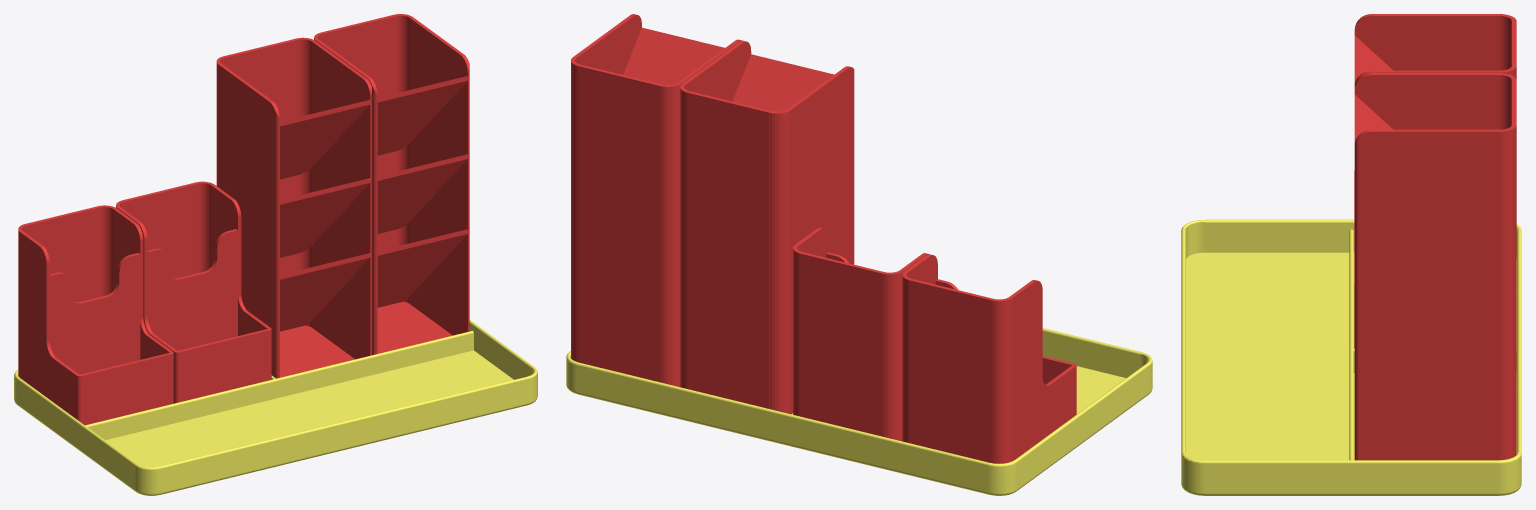
Rendered from DeskOrgan.glb.
3 renders of one model, left to right at view 1: azimuth 30°, elevation 25°; view 2: azimuth 150°, elevation 25°; view 3: azimuth 270°, elevation 25°, orthographic. The views are drawn at different scales.
Visible parts, largest first — view 1: Desk Organiser Small.001, Desk Organiser Plate; view 2: Desk Organiser Small.001, Desk Organiser Plate; view 3: Desk Organiser Small.001, Desk Organiser Plate.
Boxes of the visible parts, left/top/right/bottom form: Desk Organiser Small.001: left=18, top=14, right=469, bottom=425; Desk Organiser Plate: left=14, top=320, right=537, bottom=495; Desk Organiser Small.001: left=571, top=14, right=1076, bottom=463; Desk Organiser Plate: left=566, top=328, right=1152, bottom=495; Desk Organiser Small.001: left=1354, top=14, right=1516, bottom=460; Desk Organiser Plate: left=1181, top=219, right=1521, bottom=495.
Size of the model in its own units: 2.21 by 1.55 by 1.31.
